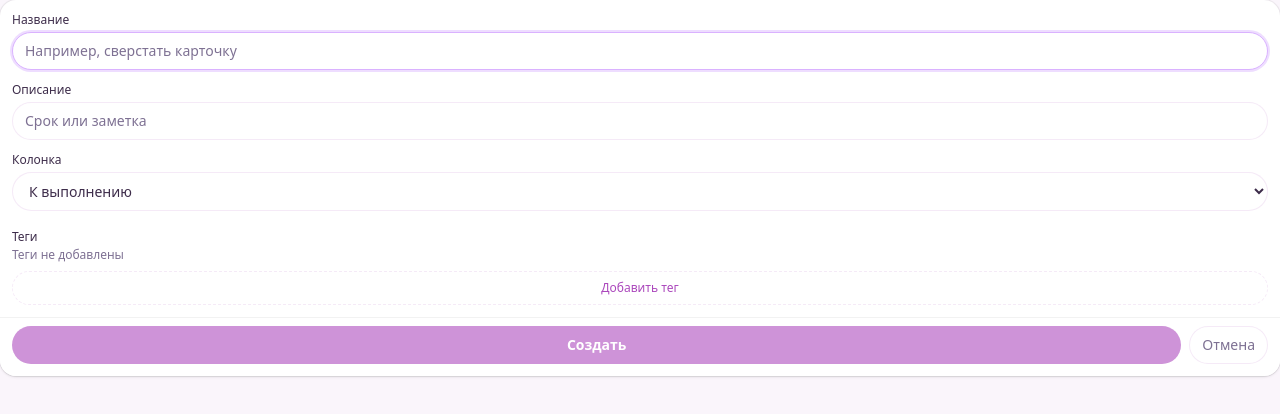
Test case: TaskForm › create mode › shows validation error when title is too short
In the field with placeholder "Например, сверстать карточку": (640, 51) [12,32,1268,70], type "A"
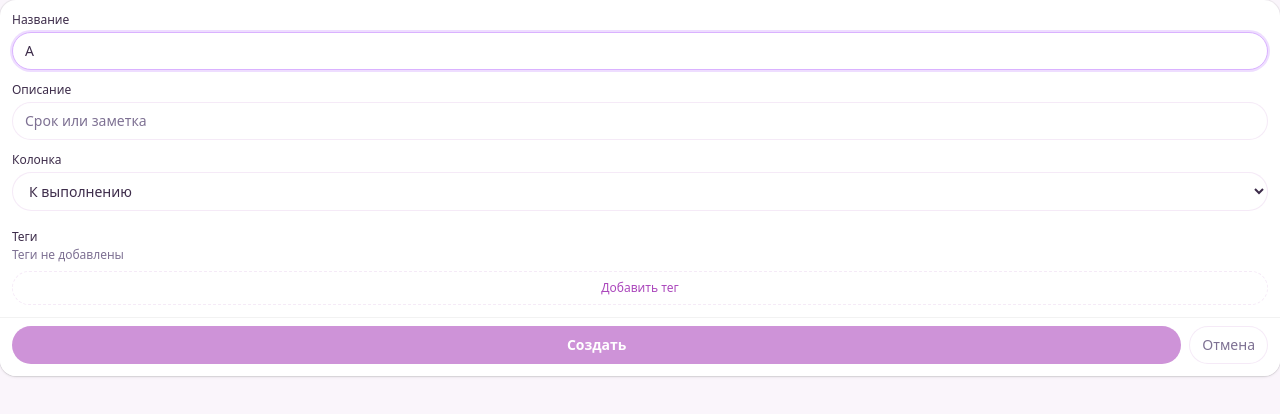
Click the button "Создать": (597, 345) [12,326,1181,364]
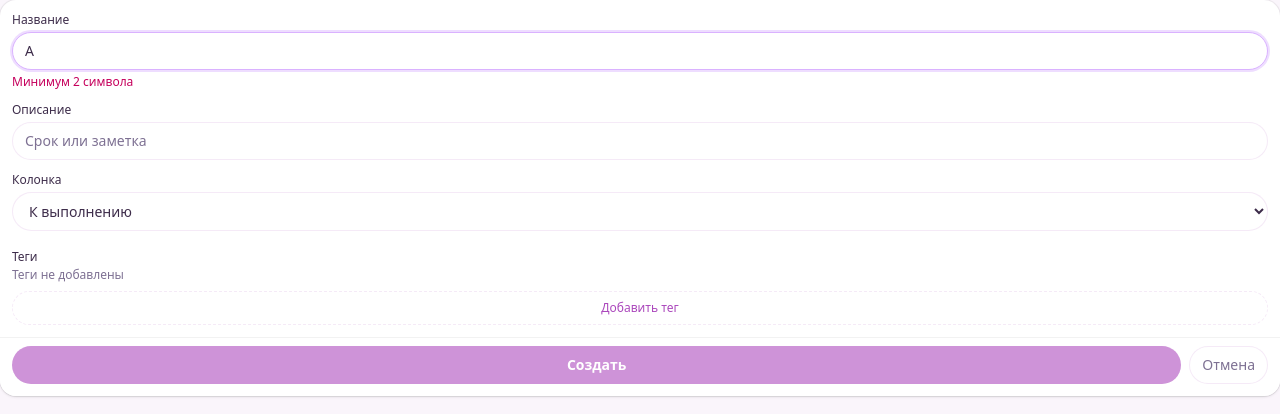
Expected: the text "Минимум 2 символа" is shown, [12,73,133,90]
